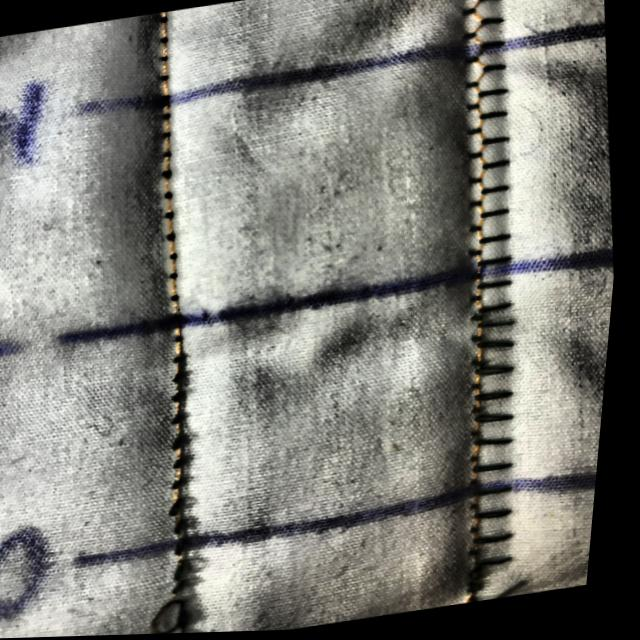Stitch: (128, 528, 236, 636)
